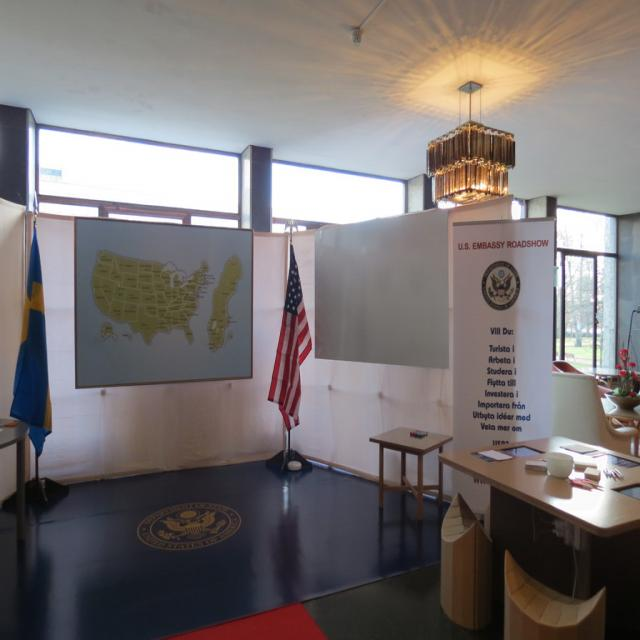chair: (503, 551, 606, 640)
desk: (438, 420, 631, 640)
